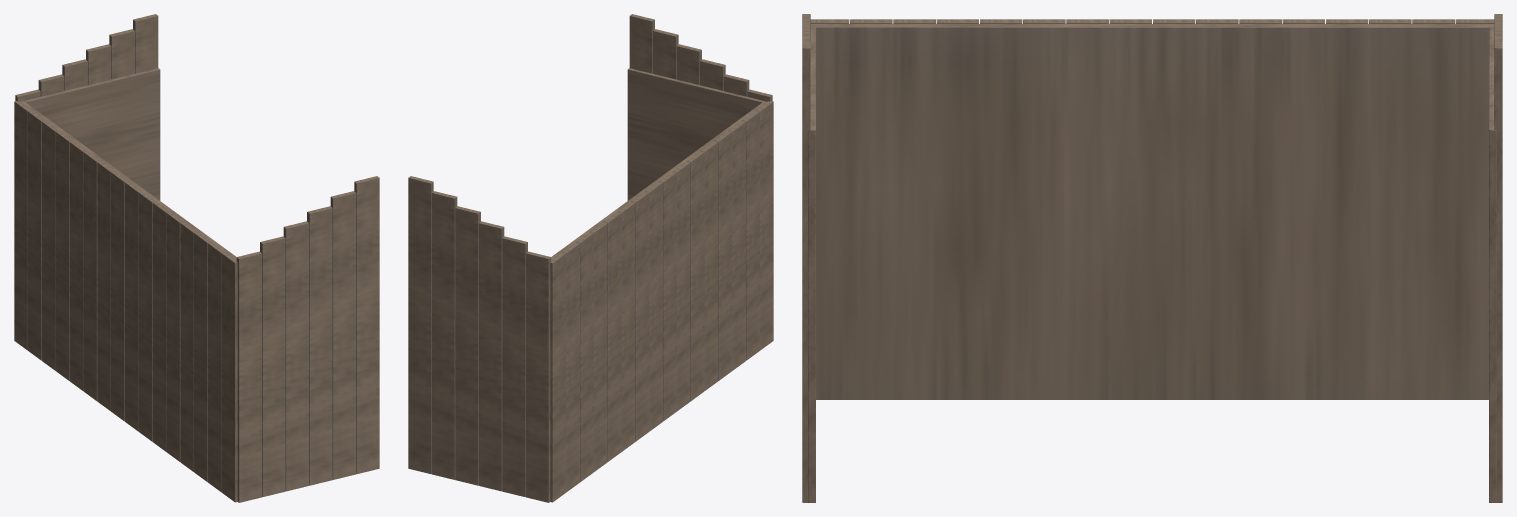
File: BW_MillerCottage01_Store.fbx
3 renders of one model, left to right at view 1: azimuth 30°, elevation 25°; view 2: azimuth 150°, elevation 25°; view 3: azimuth 270°, elevation 25°, orthographic. The views are drawn at different scales.
Parts seen in each view (by area): view 1: BW_MillerCottage01_Store; view 2: BW_MillerCottage01_Store; view 3: BW_MillerCottage01_Store.
Boxes of the visible parts, left/top/right/bottom form: BW_MillerCottage01_Store: left=14, top=14, right=379, bottom=502; BW_MillerCottage01_Store: left=408, top=14, right=773, bottom=502; BW_MillerCottage01_Store: left=802, top=14, right=1502, bottom=502.
Size of the model in its own units: 1.42 by 2.76 by 3.85.
